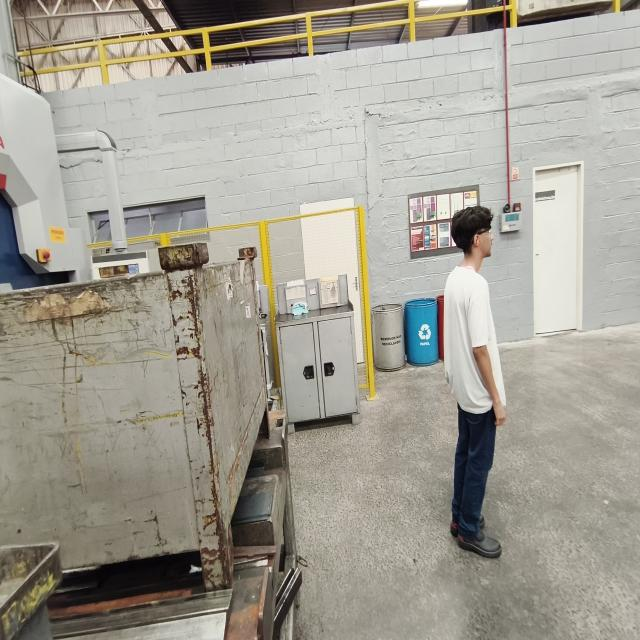oculos-epi: (471, 227, 492, 244)
